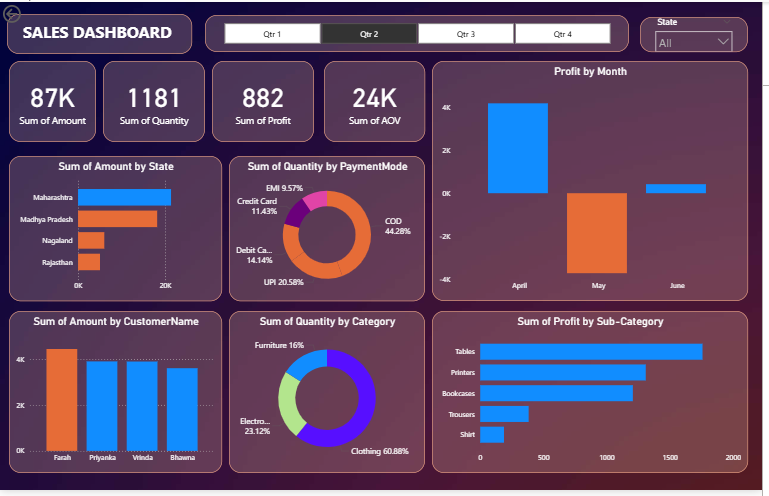

What the dashboard file says about the page in this screenshot:
{"tool":"powerbi","page":{"name":"Page 1","canvas":[1280,820],"ordinal":0},"visuals":[{"type":"textbox","box":[11.8,20.2,310.8,67.2],"z":0},{"type":"columnChart","title":"Profit by Month","fields":{"Category":["Orders.Order Date.Variation.Date Hierarchy.Month"],"Y":["Sum(Details.Profit)"]},"box":[725.7,99.1,530.8,403.1],"z":1000},{"type":"barChart","fields":{"Category":["Details.Sub-Category"],"Y":["Sum(Details.Profit)"]},"box":[725.7,519.1,530.8,272.1],"z":2000},{"type":"donutChart","fields":{"Category":["Details.Category"],"Y":["Sum(Details.Quantity)"]},"box":[384.7,519.1,329.2,272.1],"z":3000},{"type":"donutChart","fields":{"Category":["Details.PaymentMode"],"Y":["Sum(Details.Quantity)"]},"box":[384.7,258.7,329.2,243.6],"z":4000},{"type":"card","fields":{"Values":["Sum(Details.Amount)"]},"box":[15.1,99.1,146.1,136.1],"z":5000},{"type":"actionButton","box":[0,0,100,40],"z":6000},{"type":"card","fields":{"Values":["Sum(Details.Quantity)"]},"box":[173,99.1,171.3,136.1],"z":7000},{"type":"card","fields":{"Values":["Sum(Details.Profit)"]},"box":[356.1,99.1,171.3,136.1],"z":8000},{"type":"card","fields":{"Values":["Sum(Details.AOV)"]},"box":[544.3,99.1,169.7,136.1],"z":9000},{"type":"barChart","fields":{"Category":["Orders.State"],"Y":["Sum(Details.Amount)"]},"box":[15.1,258.7,357.8,243.6],"z":10000},{"type":"slicer","fields":{"Values":["Orders.Order Date.Variation.Date Hierarchy.Quarter"]},"box":[344.4,21.8,712.2,62.2],"z":10001},{"type":"slicer","fields":{"Values":["Orders.State"]},"box":[1075.1,25.2,181.4,58.8],"z":10002},{"type":"columnChart","fields":{"Category":["Orders.CustomerName"],"Y":["Sum(Details.Amount)"]},"box":[15,519,358,272],"z":10003}]}

Visuals, with their boxes in screenshot pixels (x1, y1, x2, y2), scaled from the page's 1280x820 canvas onto the 769x496 screenshot:
textbox: bbox(7, 12, 194, 53)
"Profit by Month" columnChart: bbox(436, 60, 755, 304)
barChart - Details.Sub-Category x Sum(Details.Profit): bbox(436, 314, 755, 479)
donutChart - Details.Category x Sum(Details.Quantity): bbox(231, 314, 429, 479)
donutChart - Details.PaymentMode x Sum(Details.Quantity): bbox(231, 156, 429, 304)
card - Sum(Details.Amount): bbox(9, 60, 97, 142)
actionButton: bbox(0, 0, 60, 24)
card - Sum(Details.Quantity): bbox(104, 60, 207, 142)
card - Sum(Details.Profit): bbox(214, 60, 317, 142)
card - Sum(Details.AOV): bbox(327, 60, 429, 142)
barChart - Orders.State x Sum(Details.Amount): bbox(9, 156, 224, 304)
slicer - Orders.Order Date.Variation.Date Hierarchy.Quarter: bbox(207, 13, 635, 51)
slicer - Orders.State: bbox(646, 15, 755, 51)
columnChart - Orders.CustomerName x Sum(Details.Amount): bbox(9, 314, 224, 478)
